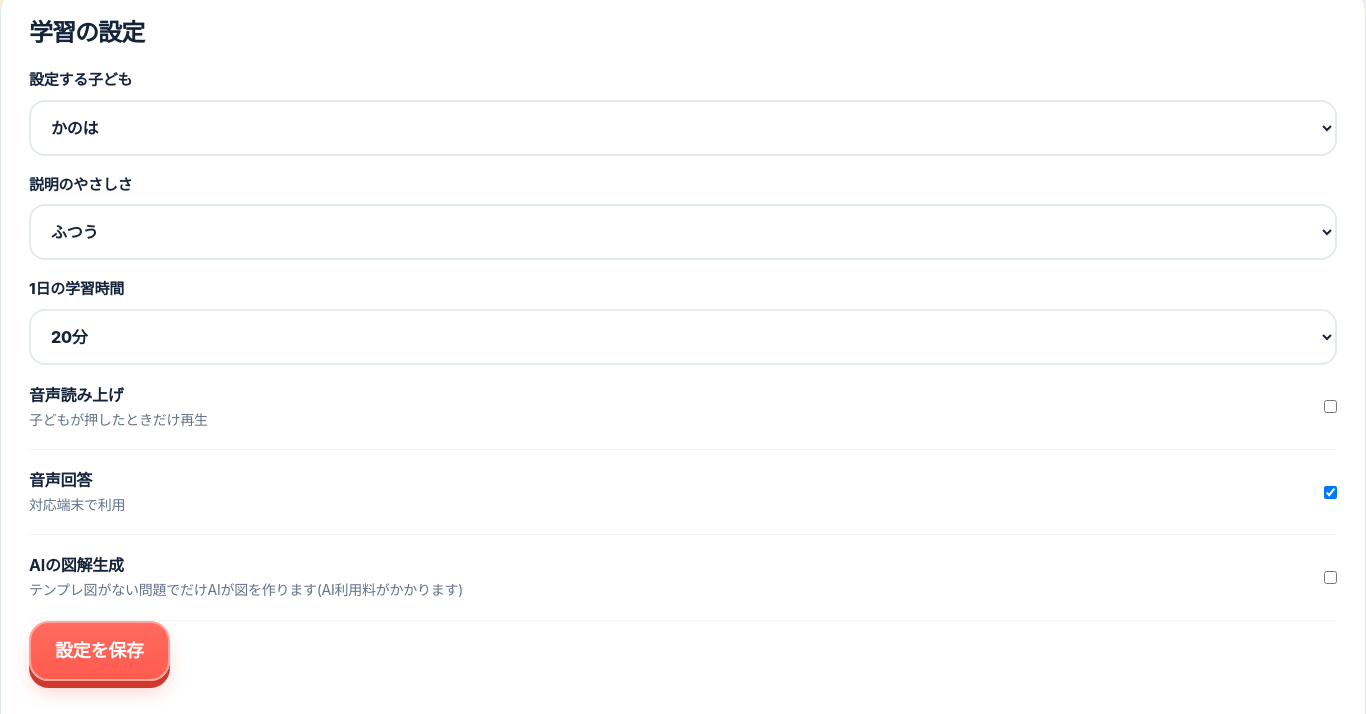
Test: SettingsForm › loads and saves settings for the selected child
Expected: the dropdown labelled "説明のやさしさ" shows "ふつう", 29,204 -> 1337,260
Expected: the checkbox labelled "音声読み上げ" is not checked, 1324,400 -> 1337,413
Select "10分" in the dropdown labelled "1日の学習時間" at point(683, 336), box 29,308 -> 1337,364
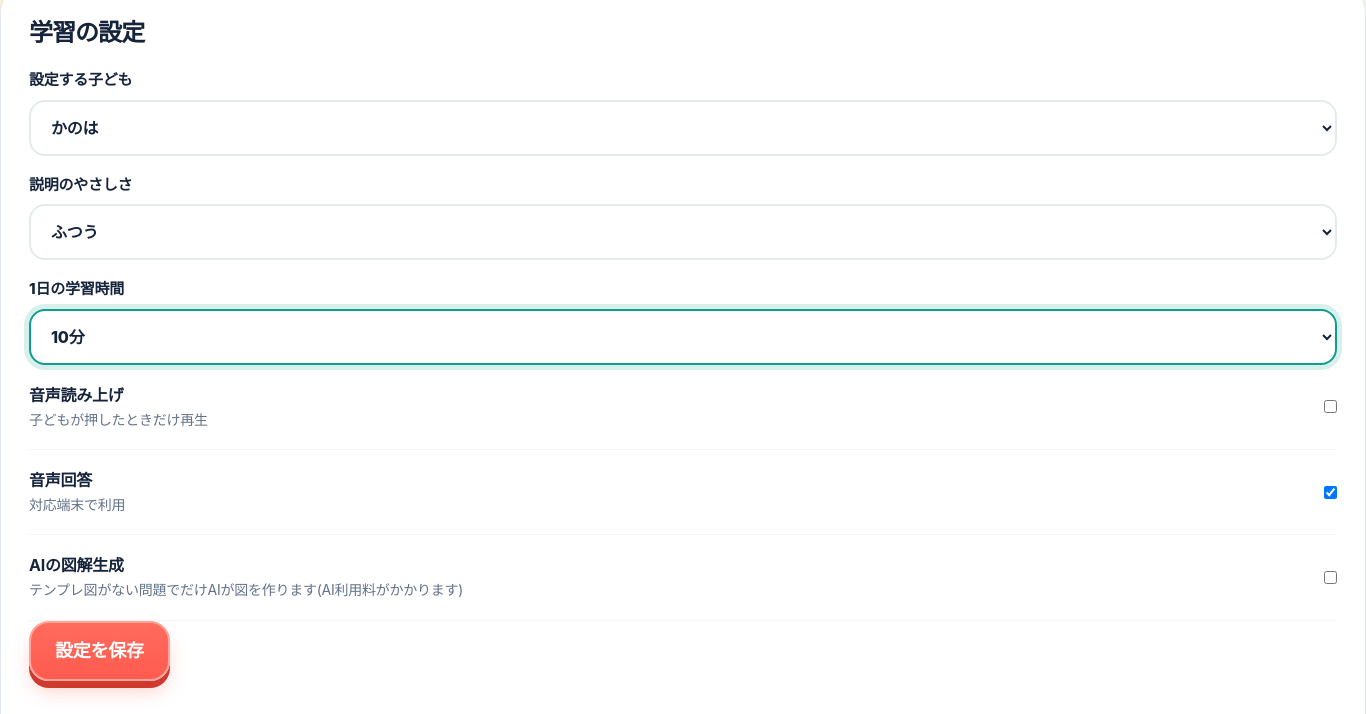
Click the checkbox labelled "AIの図解生成".
click(1330, 578)  # box 1324,571 -> 1337,584
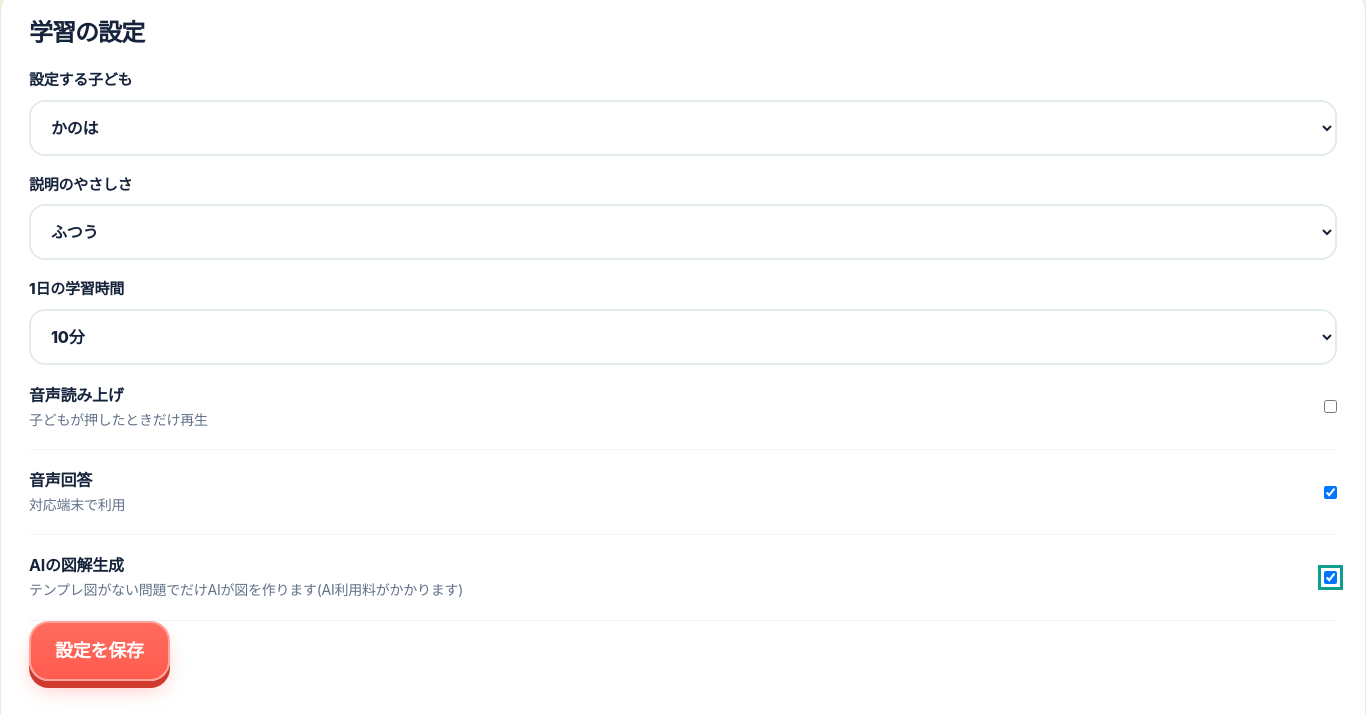
Click the button "設定を保存".
click(99, 651)  # box 29,621 -> 170,681
(page scrolled)
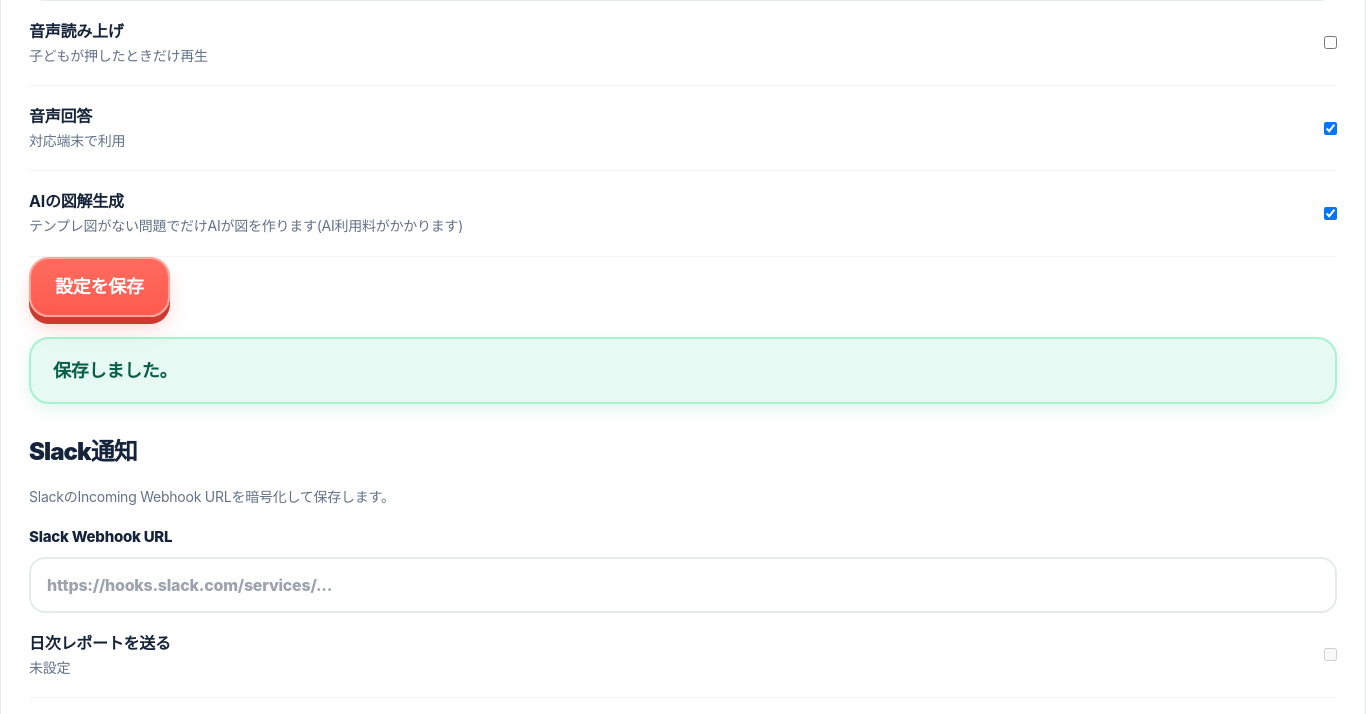
Expected: the message shows "保存しました", 53,360 -> 177,381
